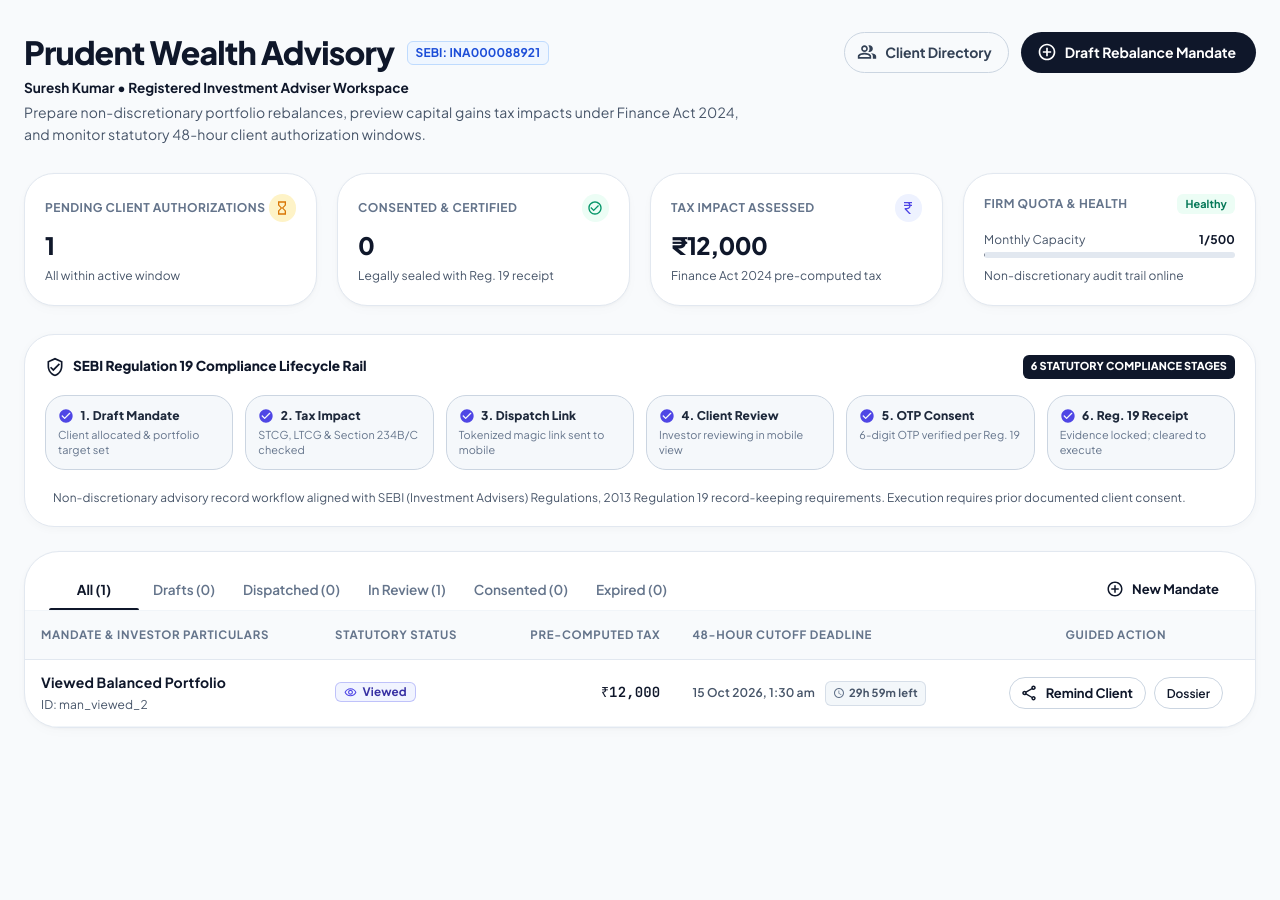
Scenario: Reshare & Remind Button Actions, Modal Hook Safety & Error Boundary Suite › 2. RiaDashboard Action Buttons ("Reshare most urgent links" & "Remind Client") › 2.2: Clicking "Remind Client" on a viewed mandate opens the modal cleanly without blank screen or crash
The image size is (1280, 900).
Click the button "Remind Client". click: (1077,693)
box: [1009, 677, 1146, 710]
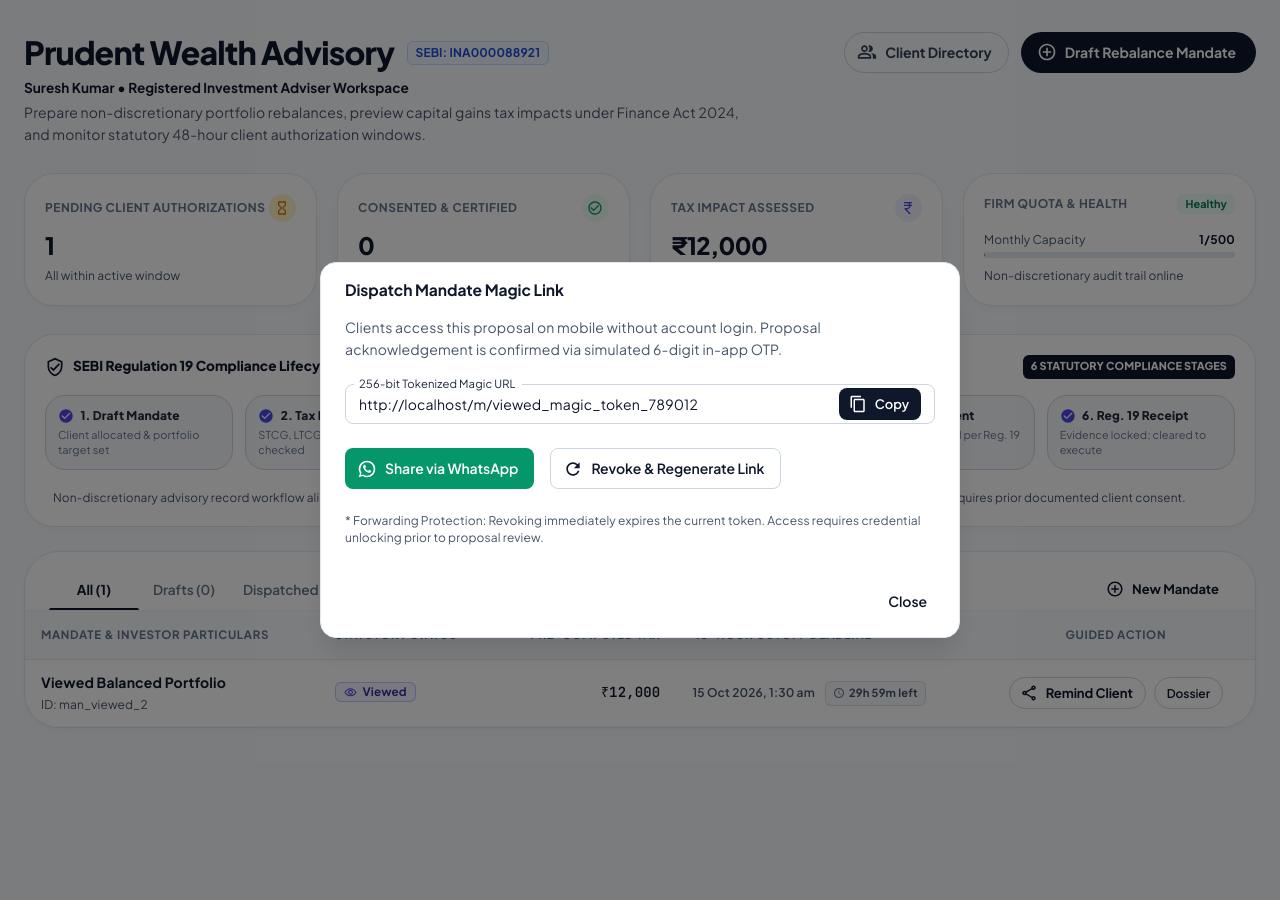
Expected: the heading "Dispatch Mandate Magic Link" is shown, [345, 280, 564, 299]
Expected: the field showing "viewed_magic_token_789012" is shown, [345, 384, 831, 424]
